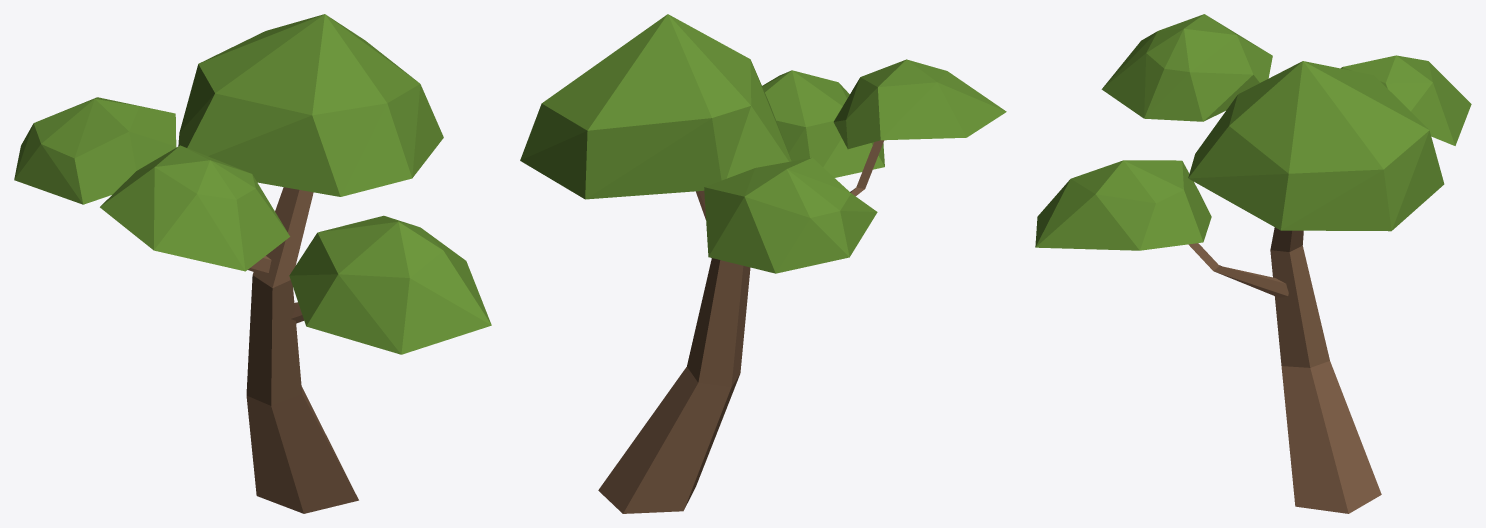
Rendered from OakTree1.fbx.
3 renders of one model, left to right at view 1: azimuth 30°, elevation 25°; view 2: azimuth 150°, elevation 25°; view 3: azimuth 270°, elevation 25°, orthographic. The views are drawn at different scales.
Parts seen in each view (by area): view 1: branch1; view 2: branch1; view 3: branch1.
Part boxes in pixels (x1=…): branch1: x1=14, y1=14, x2=491, y2=513; branch1: x1=520, y1=14, x2=1006, y2=513; branch1: x1=1035, y1=14, x2=1471, y2=513.
Size of the model in its own units: 608 by 759 by 693.
